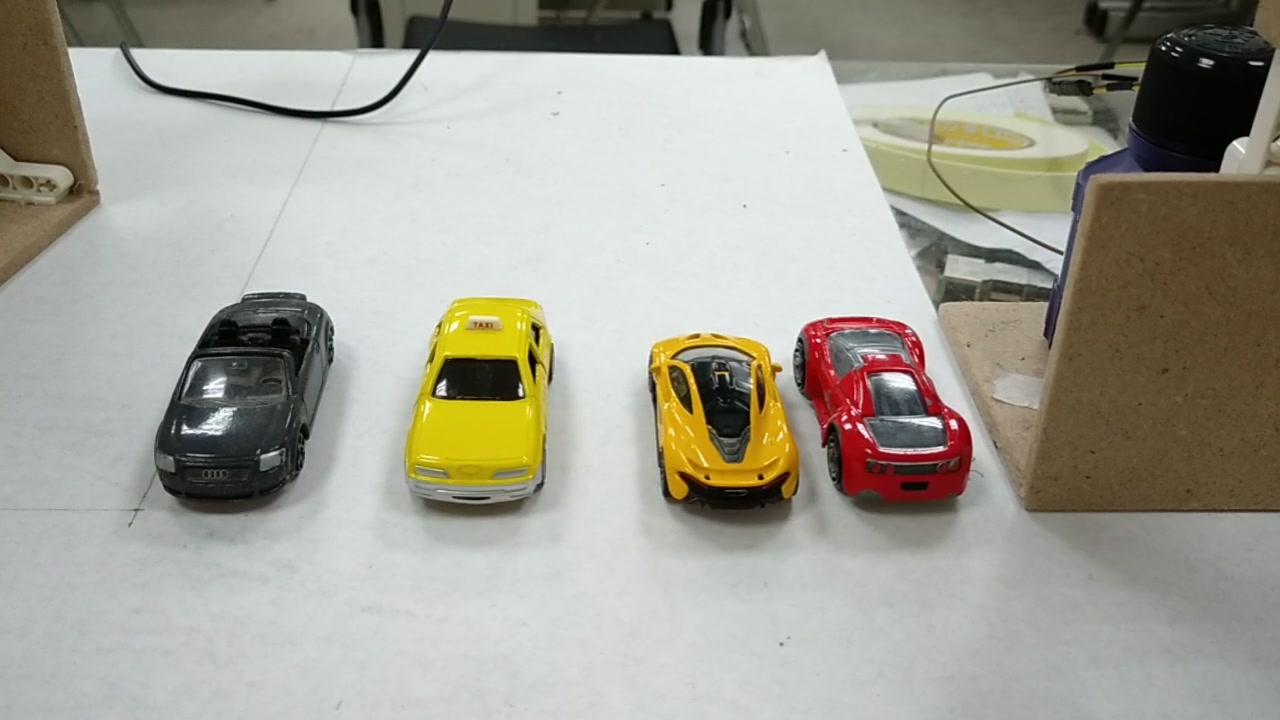car: (151, 302, 342, 508), (404, 289, 562, 505), (799, 311, 974, 500), (646, 327, 796, 513)
